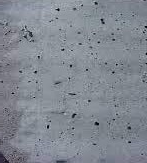Spalling: (1, 1, 147, 163)
